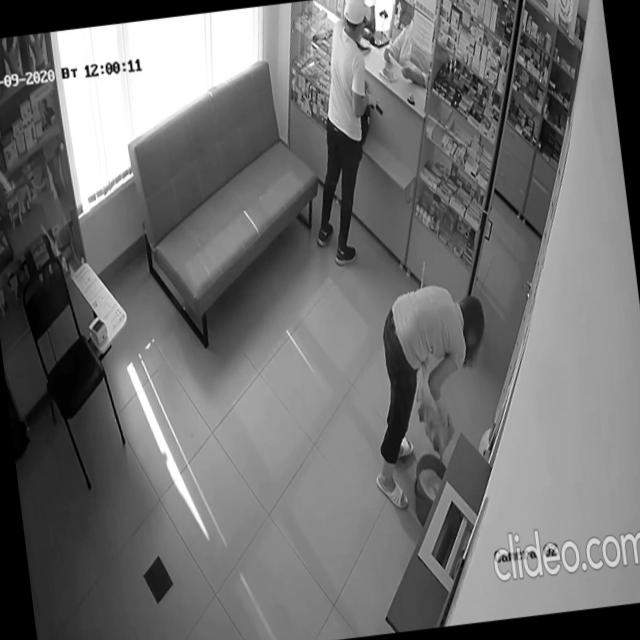gun: (368, 95, 383, 116)
person: (354, 277, 508, 511)
person with a gun: (286, 0, 400, 267)
